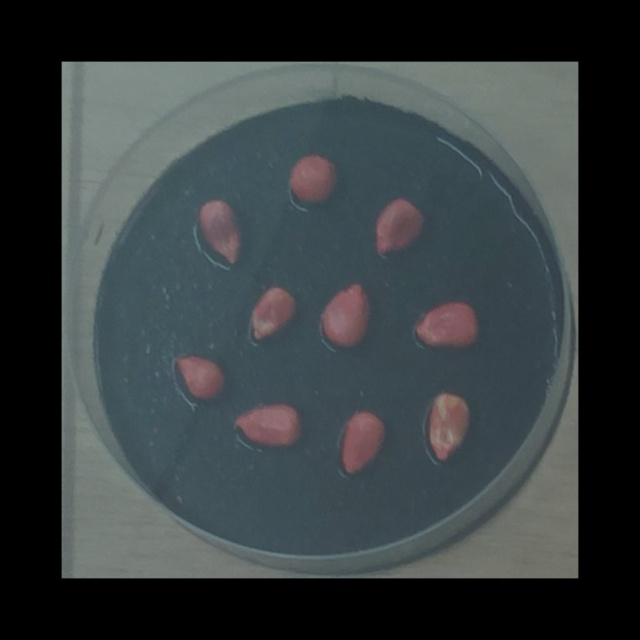Zea mays: (408, 295, 485, 357), (315, 277, 376, 355), (187, 194, 247, 273), (420, 387, 475, 471), (228, 397, 307, 455), (242, 281, 303, 350), (336, 407, 391, 482), (369, 193, 429, 261), (170, 349, 229, 408), (285, 149, 342, 208)
